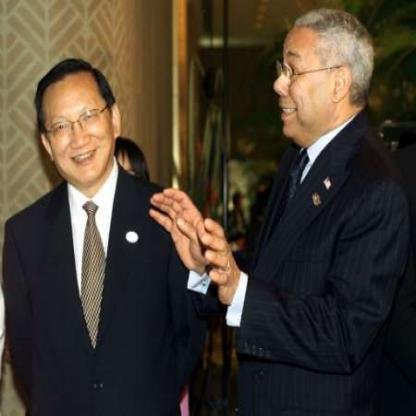face: (269, 20, 336, 144), (46, 62, 112, 187)
